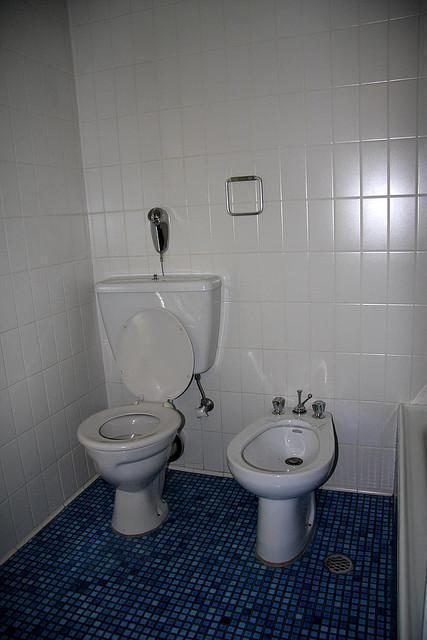Sanitario: (73, 268, 222, 533), (222, 403, 346, 574)
